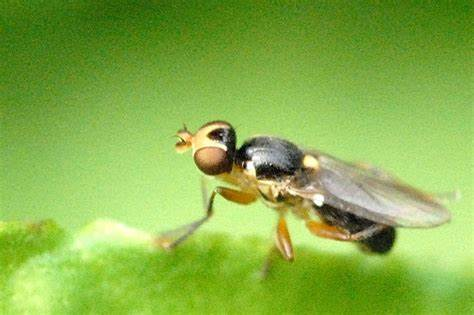Chloropidae: (150, 108, 461, 267)
